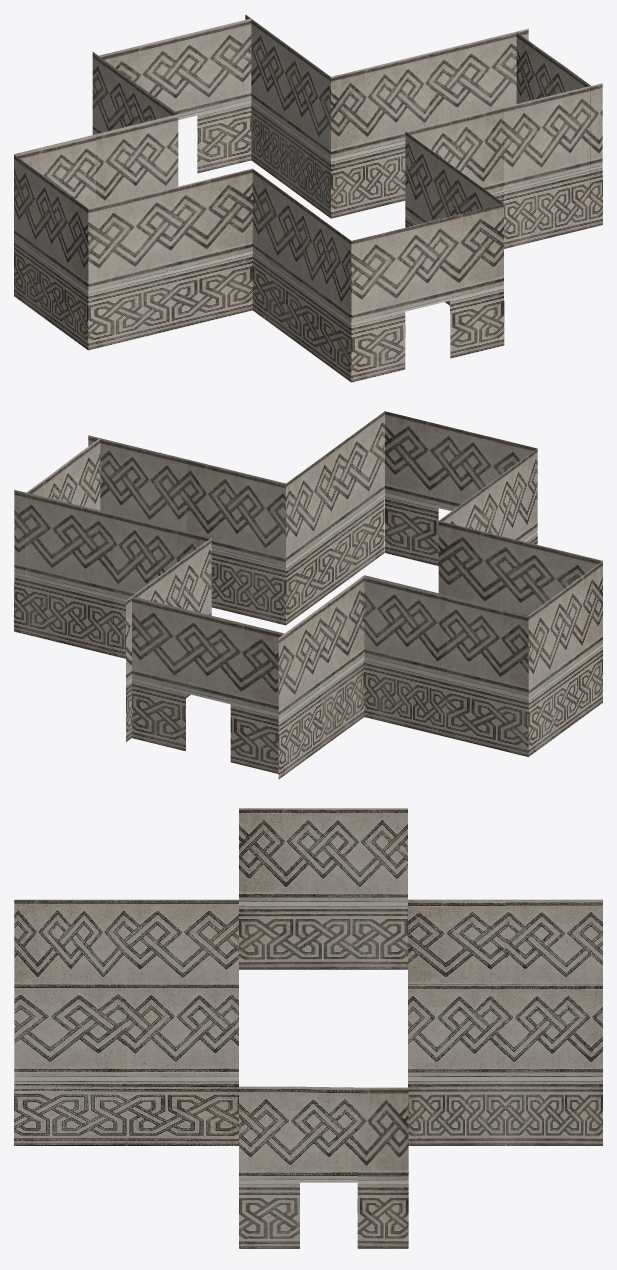
3 views of the same model, one above another, from view 1: azimuth 30°, elevation 25°; view 2: azimuth 150°, elevation 25°; view 3: azimuth 270°, elevation 25° (orthographic). The views are drawn at different scales.
Parts seen in each view (by area): view 1: 복도 벽, 화장실 밖 벽, 침실 밖 벽; view 2: 복도 벽, 침실 밖 벽, 화장실 밖 벽; view 3: 복도 벽.
Part boxes in pixels (x1,y1,x2,y2): 복도 벽: (14,14,602,381); 화장실 밖 벽: (351,203,504,382); 침실 밖 벽: (99,18,251,173); 복도 벽: (14,411,602,779); 침실 밖 벽: (132,596,284,775); 화장실 밖 벽: (385,411,537,565); 복도 벽: (14,808,602,1248).
Bounding box in the file's own units: 905 × 240 × 789.
